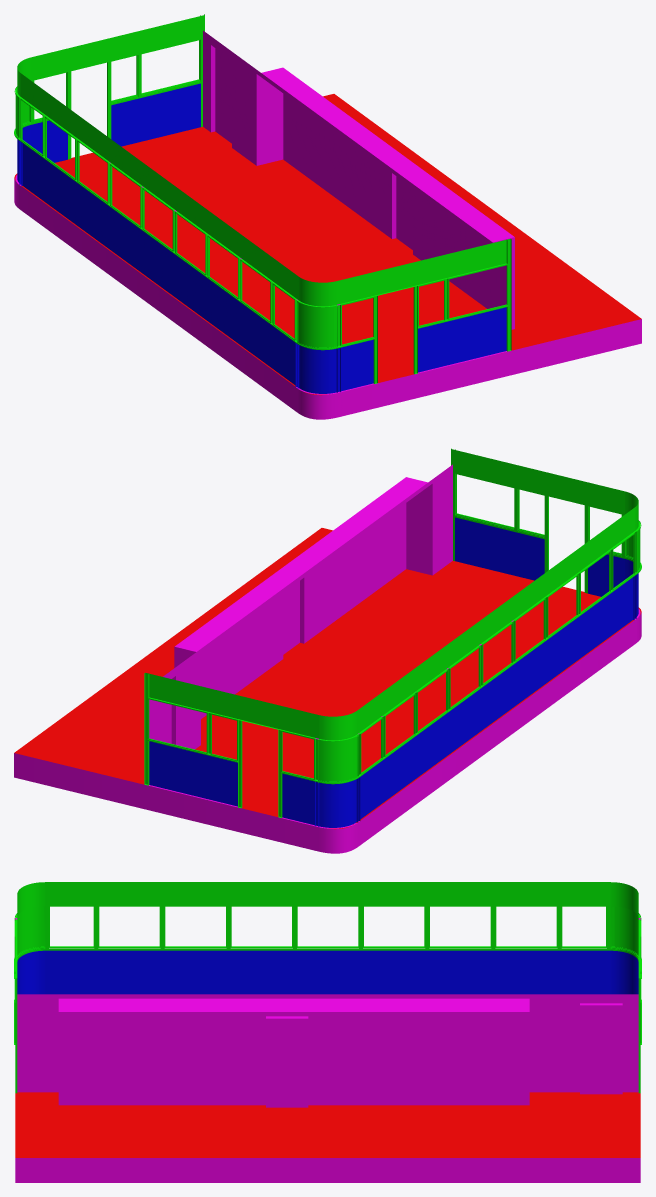
Rendered from SM_InteriorShell_DinerCart.FBX.
3 views of the same model, one above another, from view 1: azimuth 30°, elevation 25°; view 2: azimuth 150°, elevation 25°; view 3: azimuth 270°, elevation 25° (orthographic).
Parts seen in each view (by area): view 1: SM_InteriorShell_DinerCart; view 2: SM_InteriorShell_DinerCart; view 3: SM_InteriorShell_DinerCart.
Boxes of the visible parts, <box> form: SM_InteriorShell_DinerCart: <box>14,14,641,419</box>; SM_InteriorShell_DinerCart: <box>14,448,641,853</box>; SM_InteriorShell_DinerCart: <box>14,882,641,1182</box>.
Size of the model in its own units: 989 by 388 by 1599.
